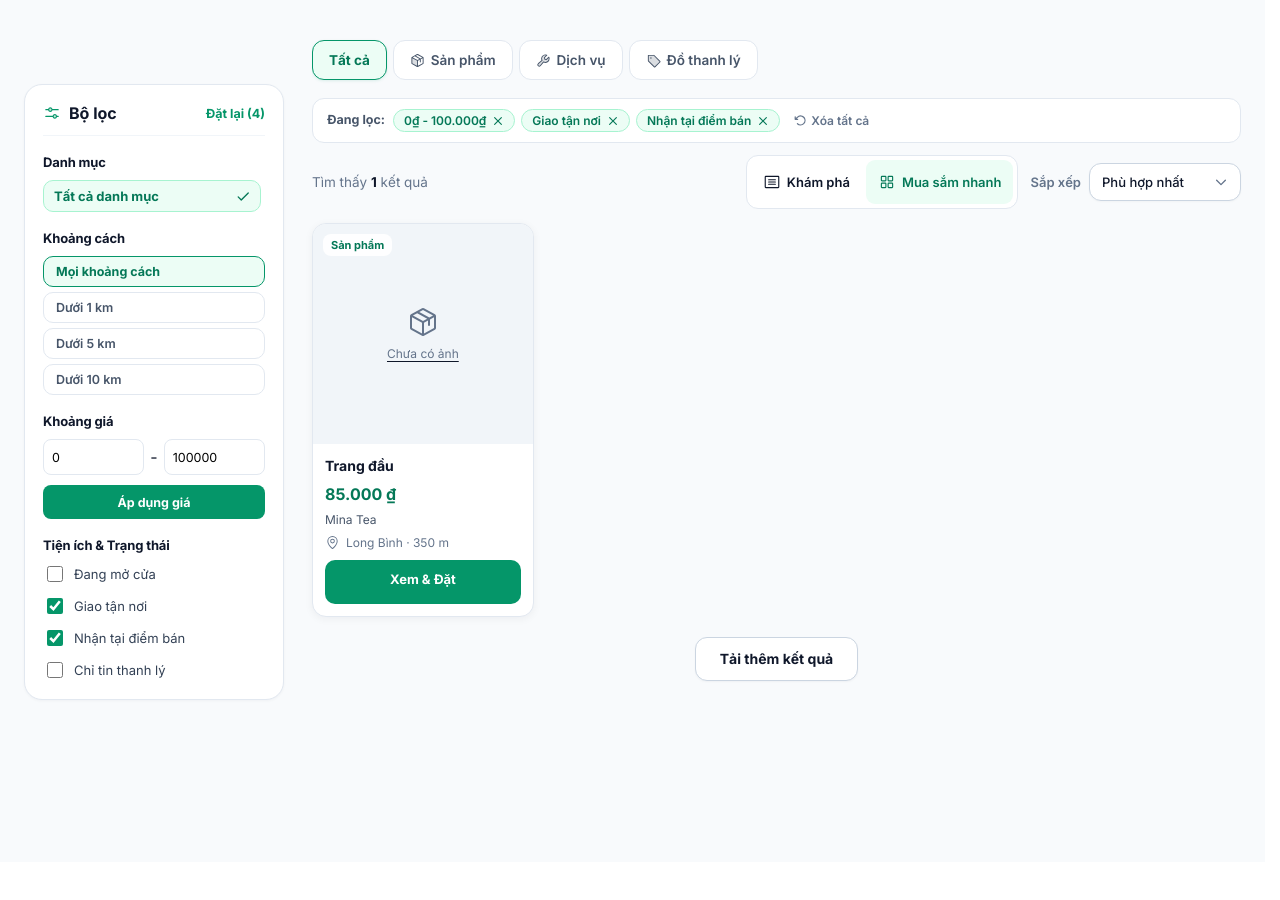
Scenario: PUB-003/004 Search › loads the next cursor page without losing results and retries a failed next page
This screenshot has width=1280, height=900.
Expected: the link "Trang đầu" is shown, x1=325 y1=457 x2=394 y2=474
Click the button "Tải thêm kết quả": (777, 659) x1=695 y1=637 x2=858 y2=681
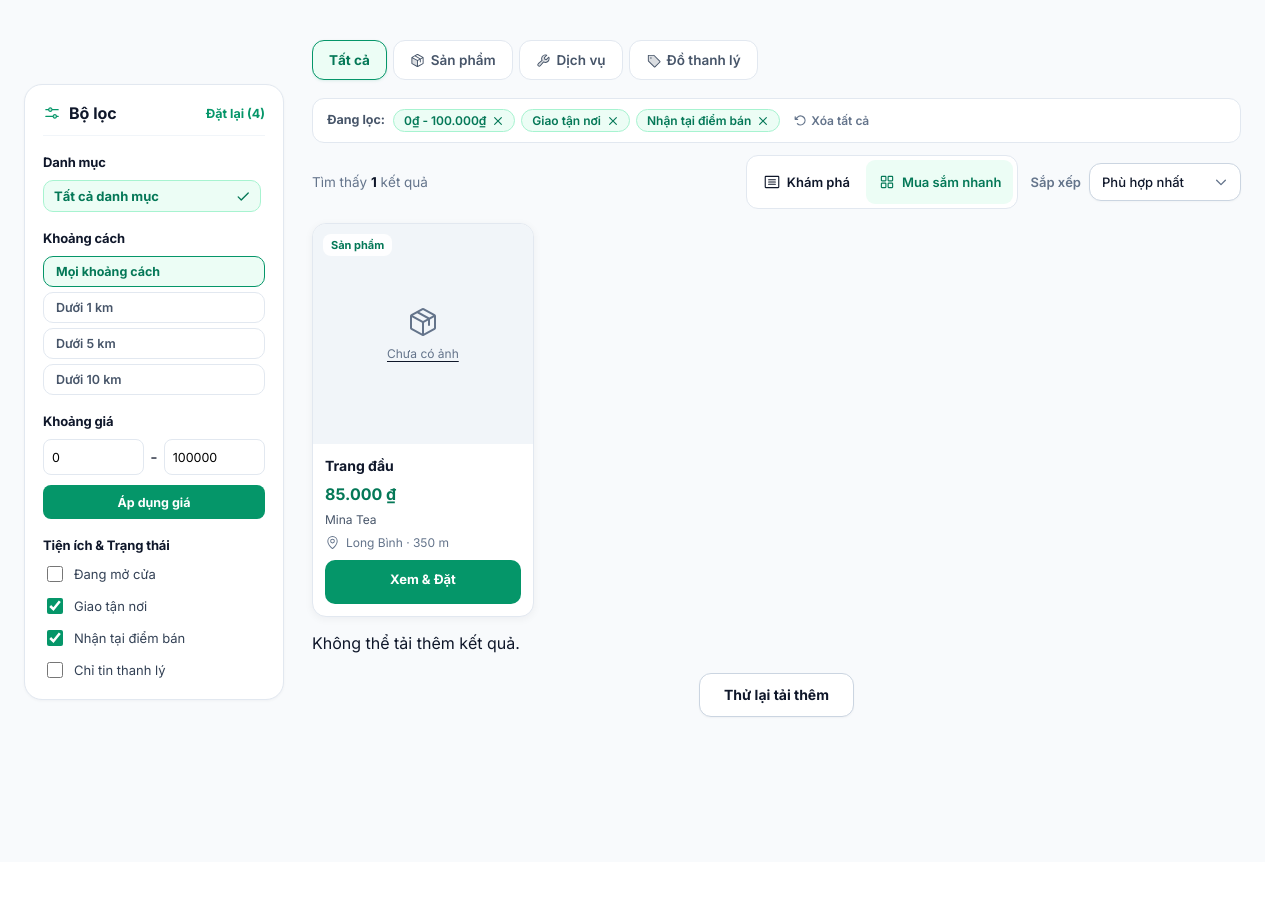
Expected: the link "Trang đầu" is shown, x1=325 y1=457 x2=394 y2=474
Expected: the text "Không thể tải thêm kết quả." is shown, x1=312 y1=633 x2=520 y2=653
Click the button "Thử lại tải thêm": (776, 695) x1=699 y1=673 x2=854 y2=717
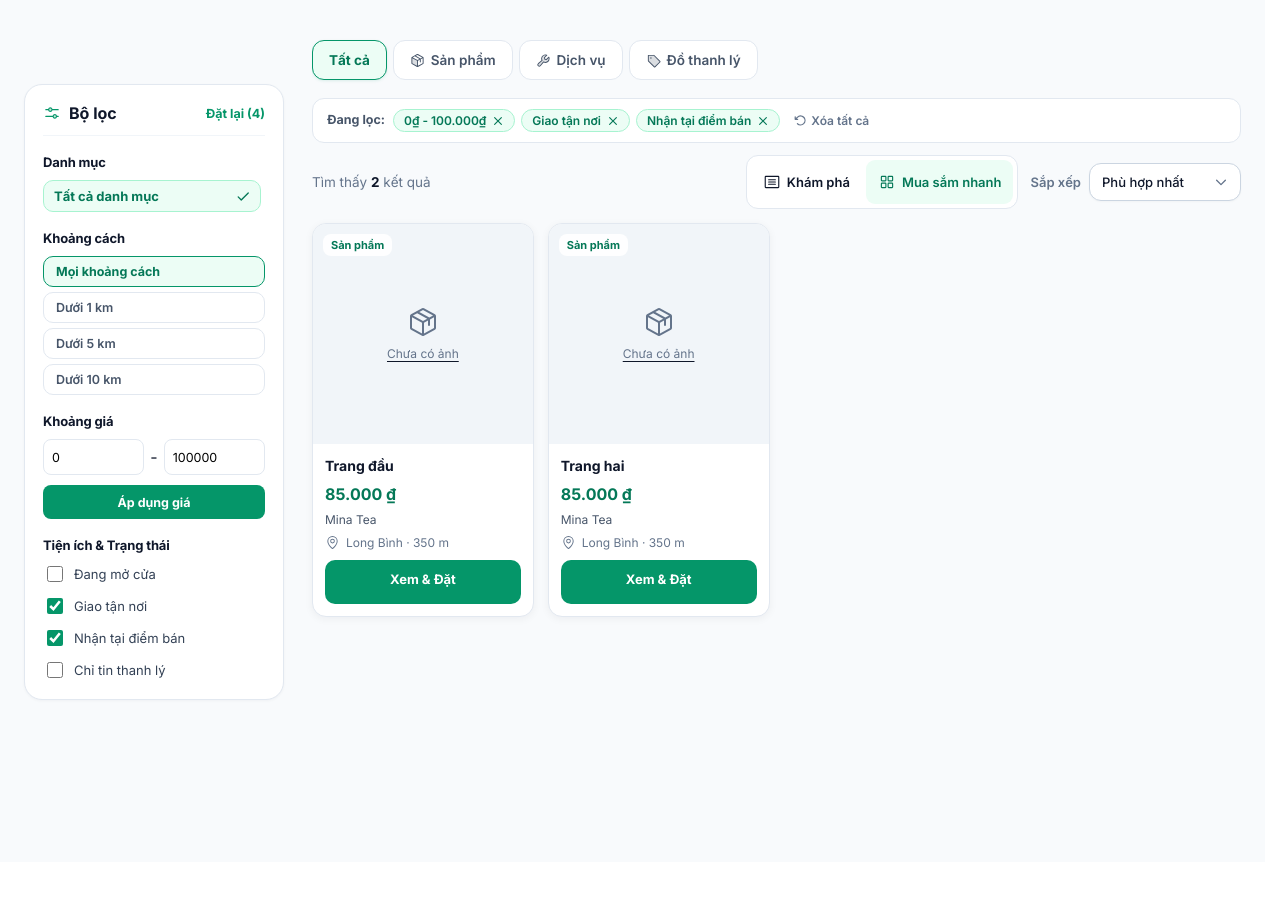
Expected: the link "Trang đầu" is shown, x1=325 y1=457 x2=394 y2=474
Expected: the link "Trang hai" is shown, x1=561 y1=457 x2=624 y2=474
Expected: the message "tải thêm kết quả" is gone
